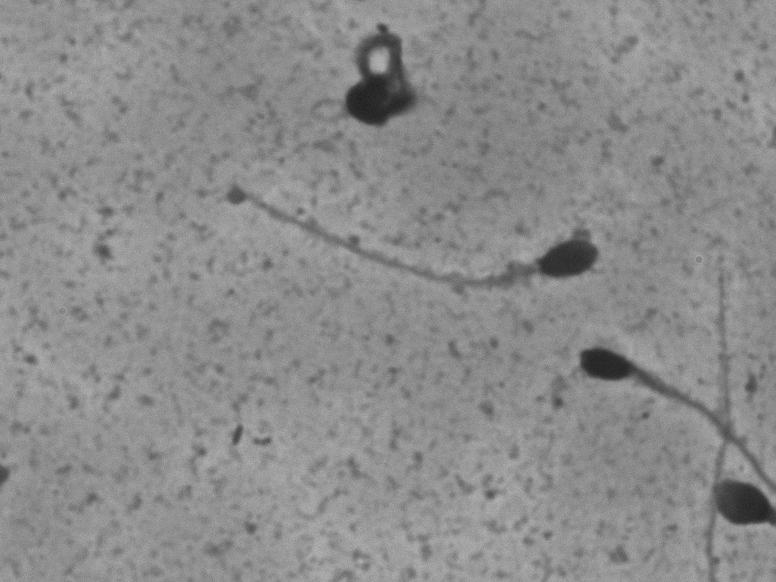Abnormal: (202, 123, 607, 333), (532, 314, 755, 454)
